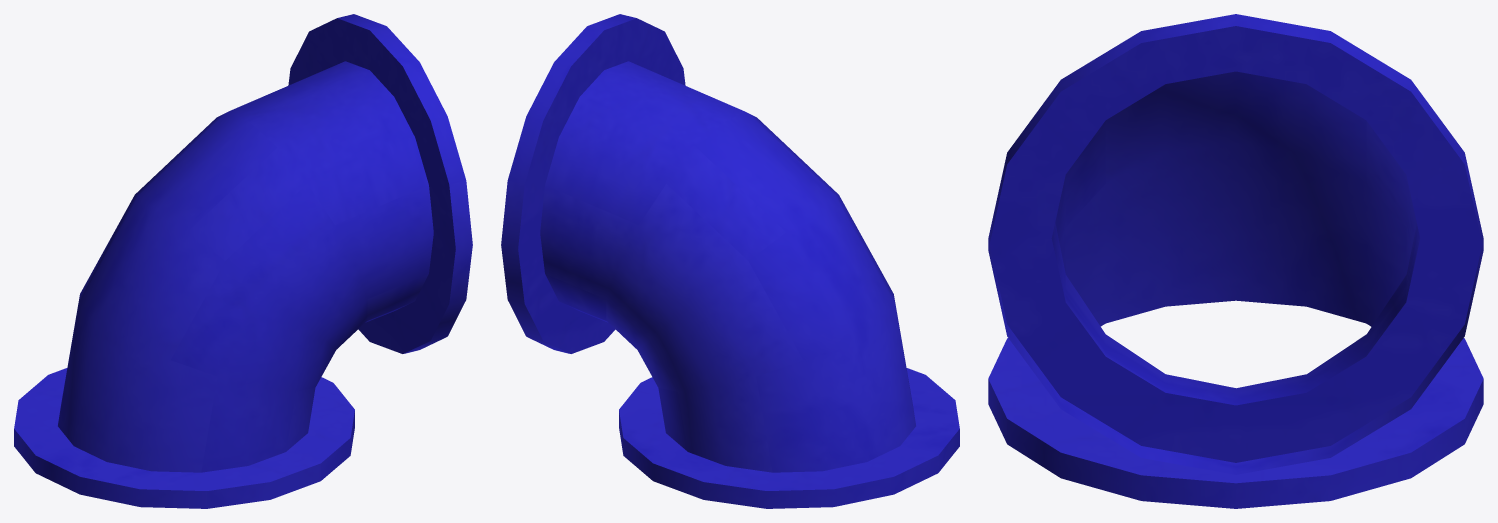
File: pipeElbow.fbx
3 renders of one model, left to right at view 1: azimuth 30°, elevation 25°; view 2: azimuth 150°, elevation 25°; view 3: azimuth 270°, elevation 25°, orthographic. The views are drawn at different scales.
Visible parts, largest first — view 1: pipeElbow; view 2: pipeElbow; view 3: pipeElbow.
Boxes of the visible parts, left/top/right/bottom form: pipeElbow: left=14, top=14, right=472, bottom=508; pipeElbow: left=501, top=14, right=959, bottom=508; pipeElbow: left=988, top=14, right=1483, bottom=508.
Size of the model in its own units: 0.5067 by 0.4981 by 0.4296.
